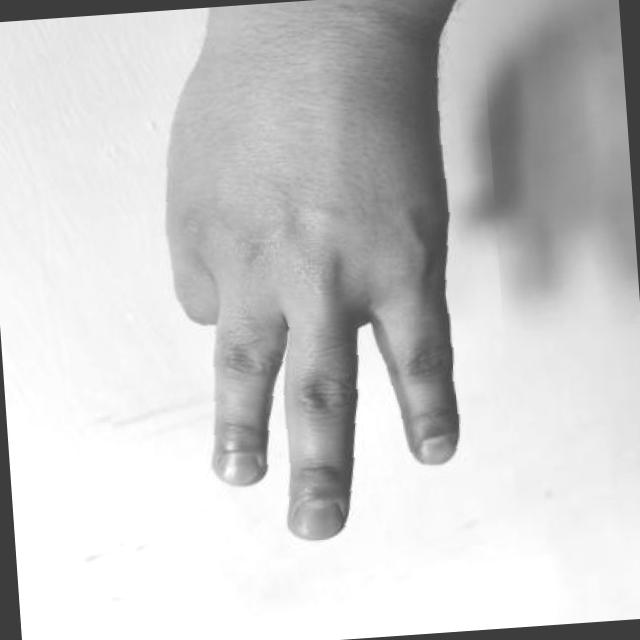M: (69, 0, 517, 570)
